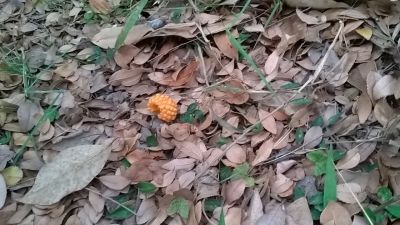eggs: (147, 92, 179, 122)
